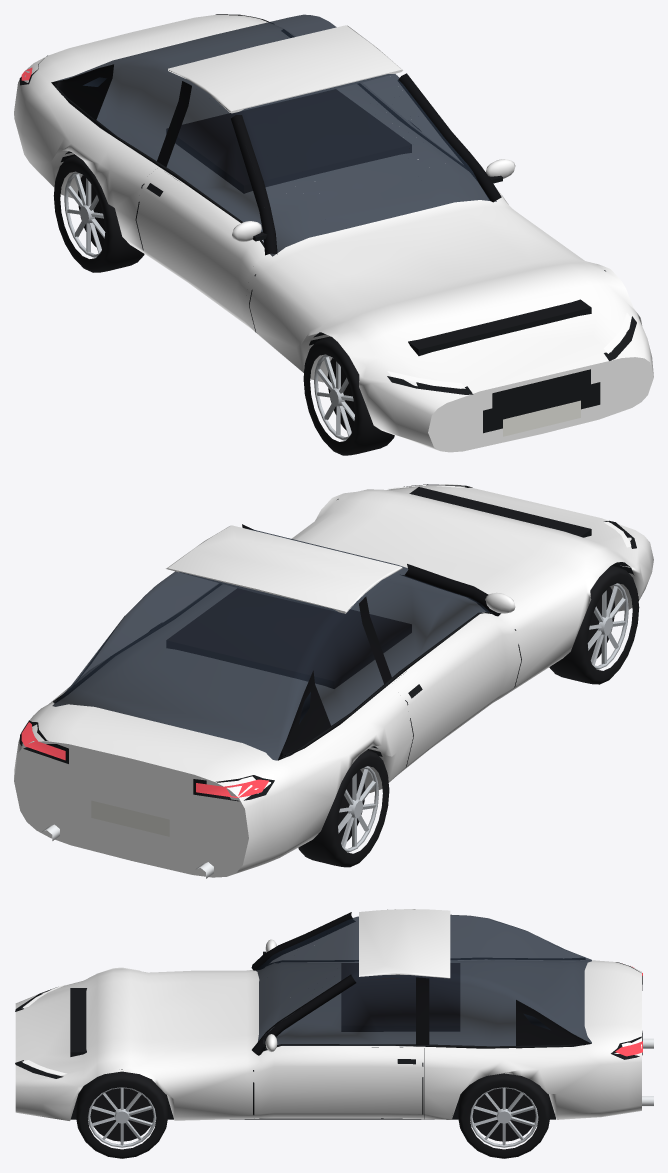
The model's file is audi_rs5_coupe.lod.glb.
3 renders of one model, top to bottom at view 1: azimuth 30°, elevation 25°; view 2: azimuth 150°, elevation 25°; view 3: azimuth 270°, elevation 25°, orthographic. The views are drawn at different scales.
Visible parts, largest first — view 1: body_paint, body_glass, body_trim, door_glass (×2), door_paint, tire (×2), body_pillar, rim (×2), door_pillar, headlights; view 2: body_paint, body_glass, body_trim, door_paint, door_glass, tire (×2), rim (×2), body_pillar, door_pillar, taillights; view 3: body_paint, body_glass, door_paint, body_trim, door_glass (×2), tire (×2), body_pillar, rim_back (×2), rim (×2), door_pillar.
Boxes of the visible parts, box(x1,y1,x2,y2) form: body_paint: box(14, 15, 653, 452); body_glass: box(54, 14, 460, 233); body_trim: box(19, 14, 636, 436); door_glass (×2): box(166, 74, 496, 256); door_paint: box(135, 168, 264, 333); tire (×2): box(53, 155, 394, 455); body_pillar: box(51, 64, 501, 255); rim (×2): box(64, 171, 354, 440); door_pillar: box(164, 85, 269, 254); headlights: box(387, 313, 631, 388); body_paint: box(14, 484, 653, 877); body_glass: box(52, 528, 396, 760); body_trim: box(19, 484, 638, 836); door_paint: box(389, 613, 516, 774); door_glass: box(359, 565, 489, 677); tire (×2): box(298, 565, 639, 867); rim (×2): box(338, 583, 628, 852); body_pillar: box(242, 524, 494, 760); door_pillar: box(364, 565, 500, 678); taillights: box(21, 722, 268, 797); body_paint: box(15, 909, 641, 1120); body_glass: box(259, 914, 591, 1047); door_paint: box(260, 1047, 423, 1119); body_trim: box(15, 958, 642, 1119); door_glass (×2): box(256, 917, 415, 1048); tire (×2): box(75, 1071, 550, 1158); body_pillar: box(251, 912, 591, 1054); rim_back (×2): box(90, 1088, 535, 1141); rim (×2): box(88, 1087, 538, 1147); door_pillar: box(255, 977, 419, 1055).
Bounding box in the file's own units: 1.92 × 1.4 × 4.82.
